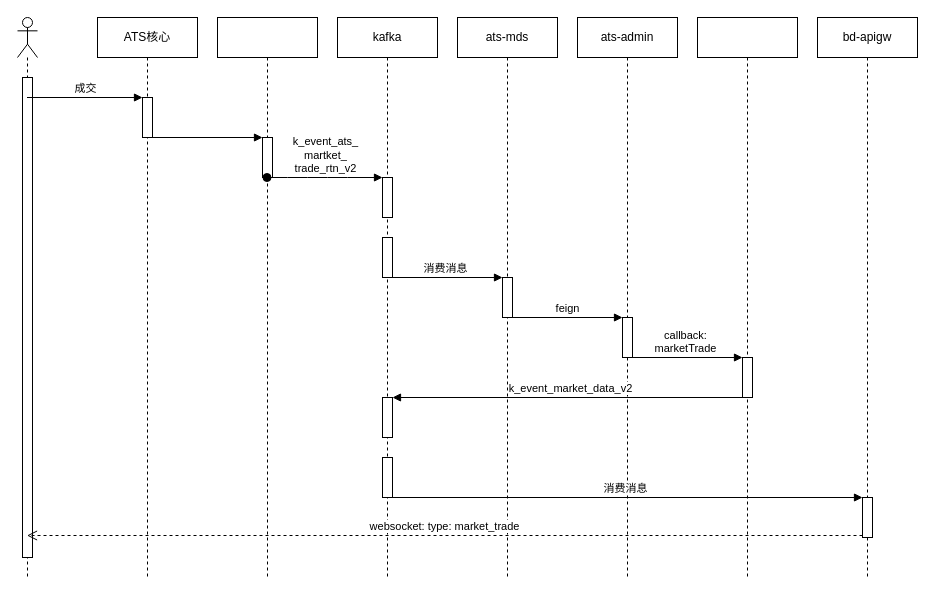
Some shapes in this 935 by 595 pixel diagram are drawn without their labels. Here are the shapes that lost their labels. From the top down, the box of each, then its label:
(216, 16, 318, 578): ats-kernel-adapter
(696, 16, 798, 578): bd-admin
